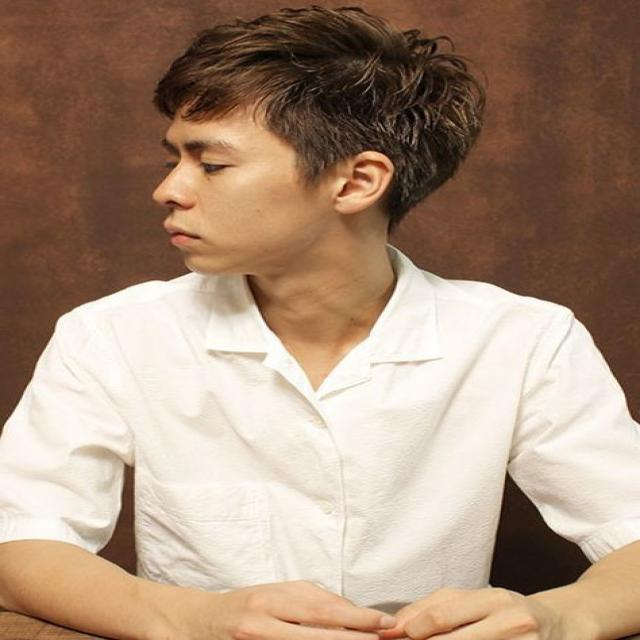Healthy: (254, 215, 391, 368)
